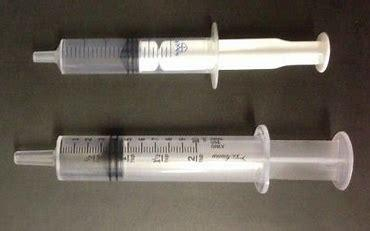Syringe: (10, 121, 366, 196), (26, 20, 340, 91)
